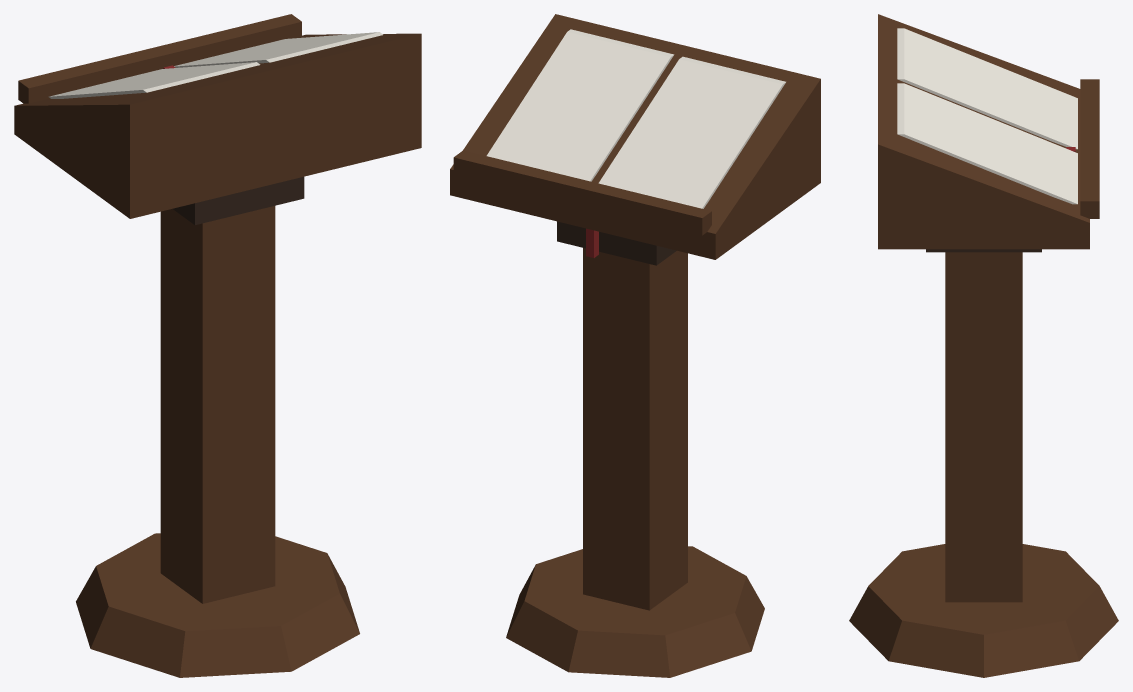
Rendered from lectern.glb.
3 renders of one model, left to right at view 1: azimuth 30°, elevation 25°; view 2: azimuth 150°, elevation 25°; view 3: azimuth 270°, elevation 25°, orthographic. The views are drawn at different scales.
Visible parts, largest first — view 1: lectern; view 2: lectern; view 3: lectern.
Boxes of the visible parts, x1,y1,x2,y2 form: lectern: (14,14,421,677); lectern: (450,14,820,677); lectern: (849,14,1118,677).
Size of the model in its own units: 0.64 by 1.24 by 0.56.
1 material, 1 textured.
